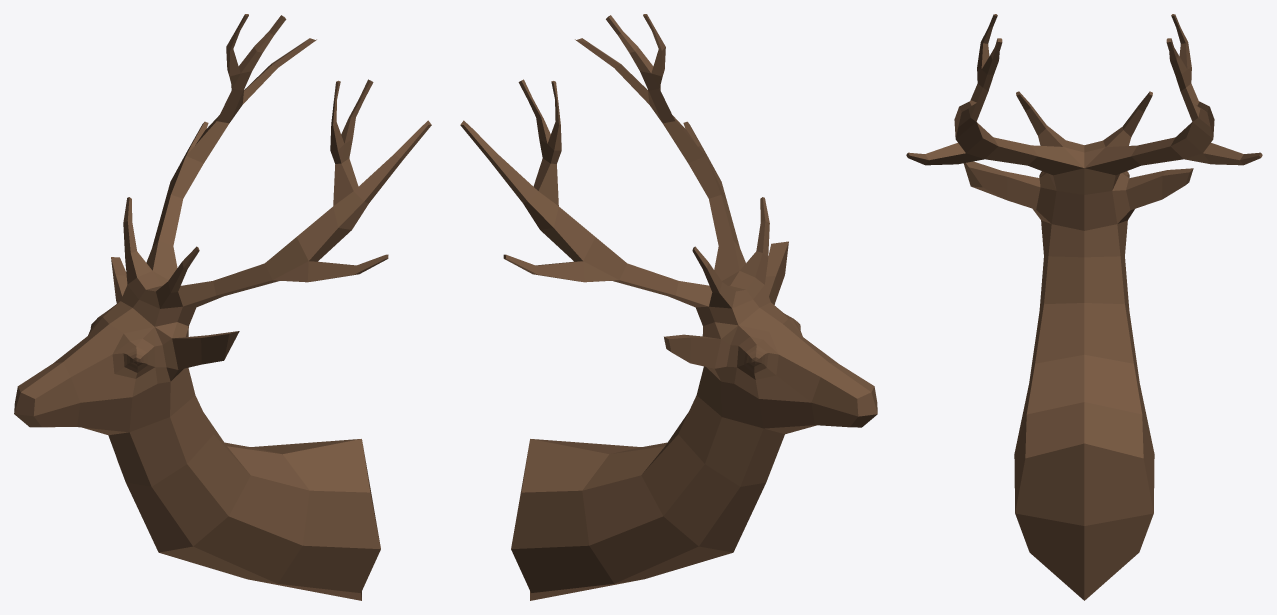
File: Deer.fbx
3 views of the same model, side by side, from view 1: azimuth 30°, elevation 25°; view 2: azimuth 150°, elevation 25°; view 3: azimuth 270°, elevation 25° (orthographic). The views are drawn at different scales.
Visible parts, largest first — view 1: Deer; view 2: Deer; view 3: Deer.
Boxes of the visible parts, bbox=[...] form: Deer: bbox=[14, 14, 431, 600]; Deer: bbox=[460, 14, 877, 600]; Deer: bbox=[906, 14, 1262, 600].
Size of the model in its own units: 170 by 257 by 150.
